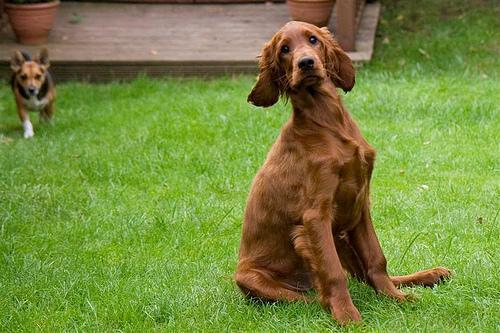Irish_setter: (233, 19, 454, 320)
